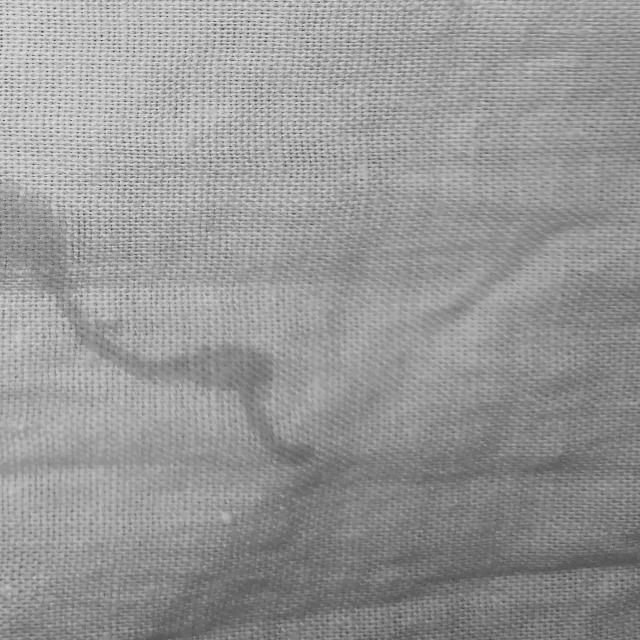Stain: (0, 185, 313, 465)
